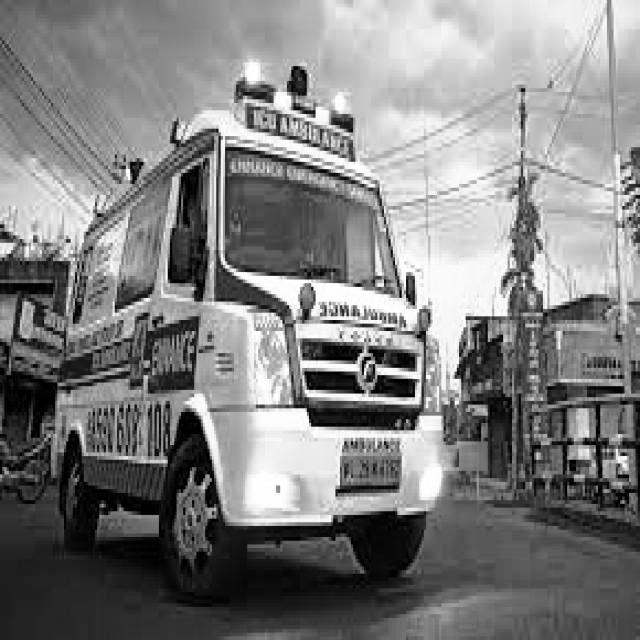LCV: (168, 69, 441, 528)
